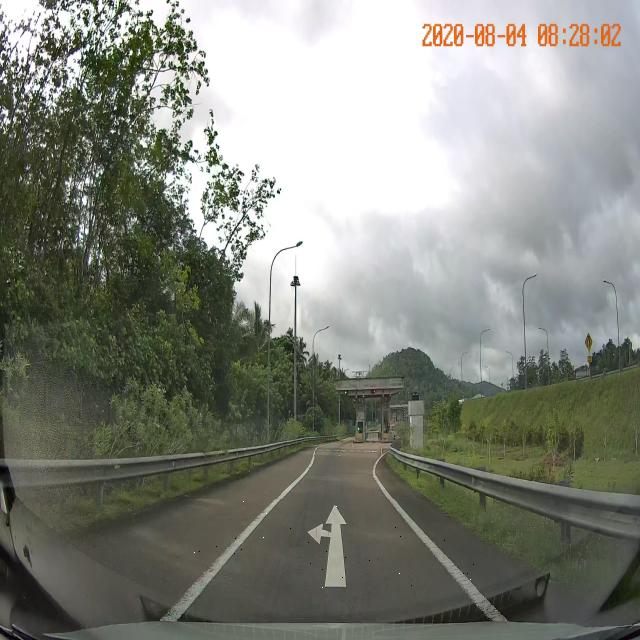forward_lft: (186, 499, 476, 590)
